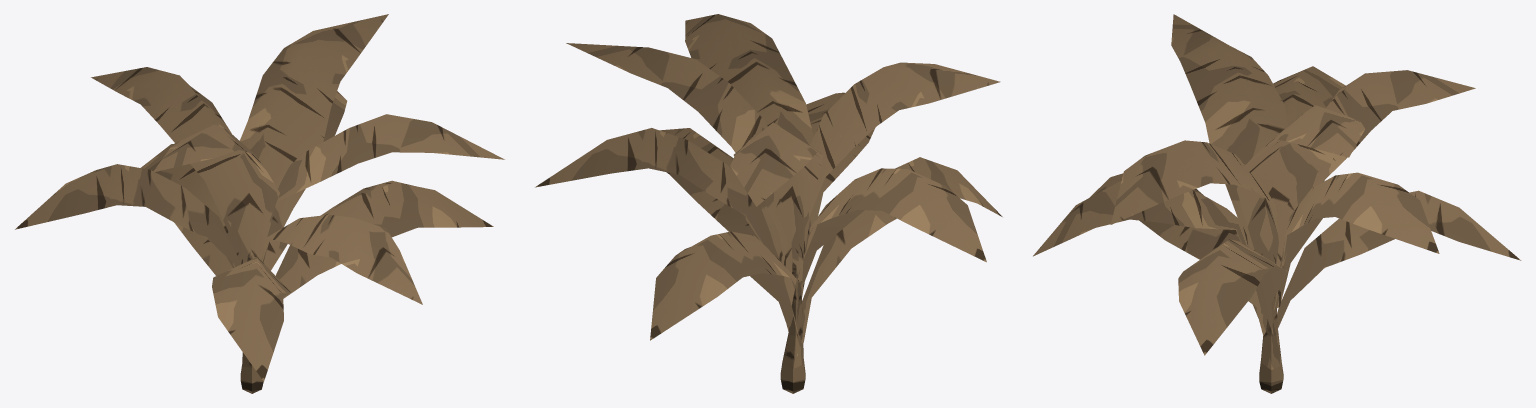
The model's file is SM_Env_Tree_Palm_Small_03.fbx.
3 renders of one model, left to right at view 1: azimuth 30°, elevation 25°; view 2: azimuth 150°, elevation 25°; view 3: azimuth 270°, elevation 25°, orthographic. The views are drawn at different scales.
Visible parts, largest first — view 1: SM_Env_Tree_Palm_Small_03_LOD0; view 2: SM_Env_Tree_Palm_Small_03_LOD0; view 3: SM_Env_Tree_Palm_Small_03_LOD0.
Part boxes in pixels (x1,y1,x2,y2): SM_Env_Tree_Palm_Small_03_LOD0: (15,14,504,393); SM_Env_Tree_Palm_Small_03_LOD0: (535,14,1002,393); SM_Env_Tree_Palm_Small_03_LOD0: (1033,14,1521,393).
Size of what is drawn, in the model's own units: 369 by 266 by 356.
